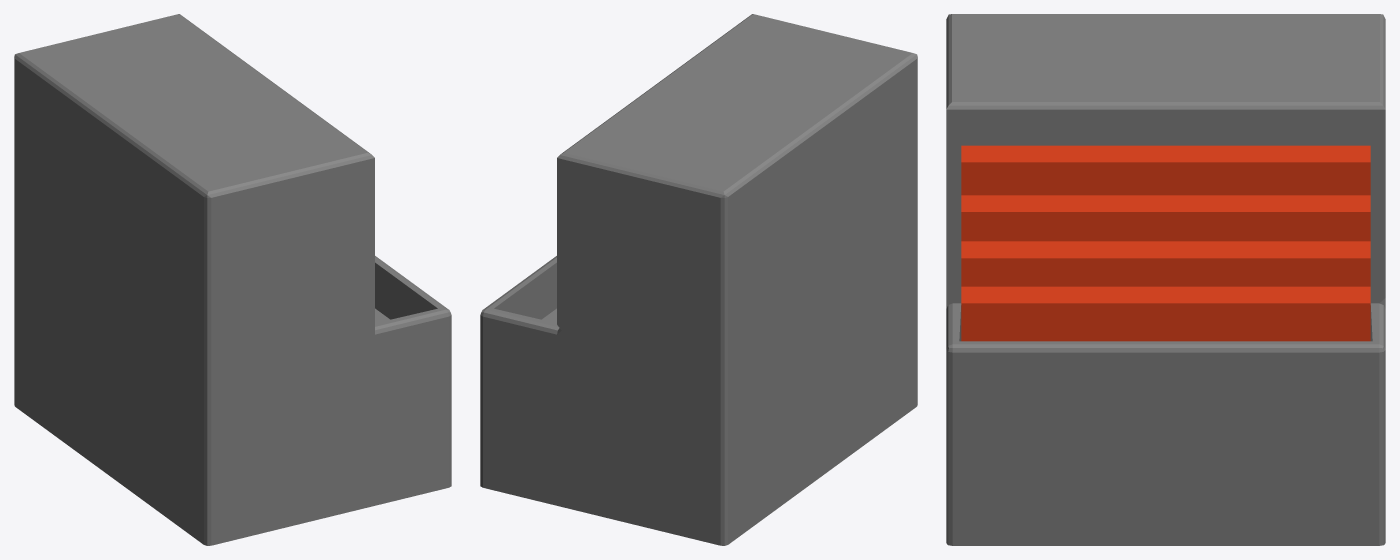
File: StandRed.fbx
3 views of the same model, side by side, from view 1: azimuth 30°, elevation 25°; view 2: azimuth 150°, elevation 25°; view 3: azimuth 270°, elevation 25° (orthographic). The views are drawn at different scales.
Parts seen in each view (by area): view 1: Cube; view 2: Cube; view 3: Cube.
Part boxes in pixels (x1,y1,x2,y2): Cube: (14,14,451,545); Cube: (480,14,917,545); Cube: (946,14,1385,545).
Size of the model in its own units: 147 by 200 by 200.
